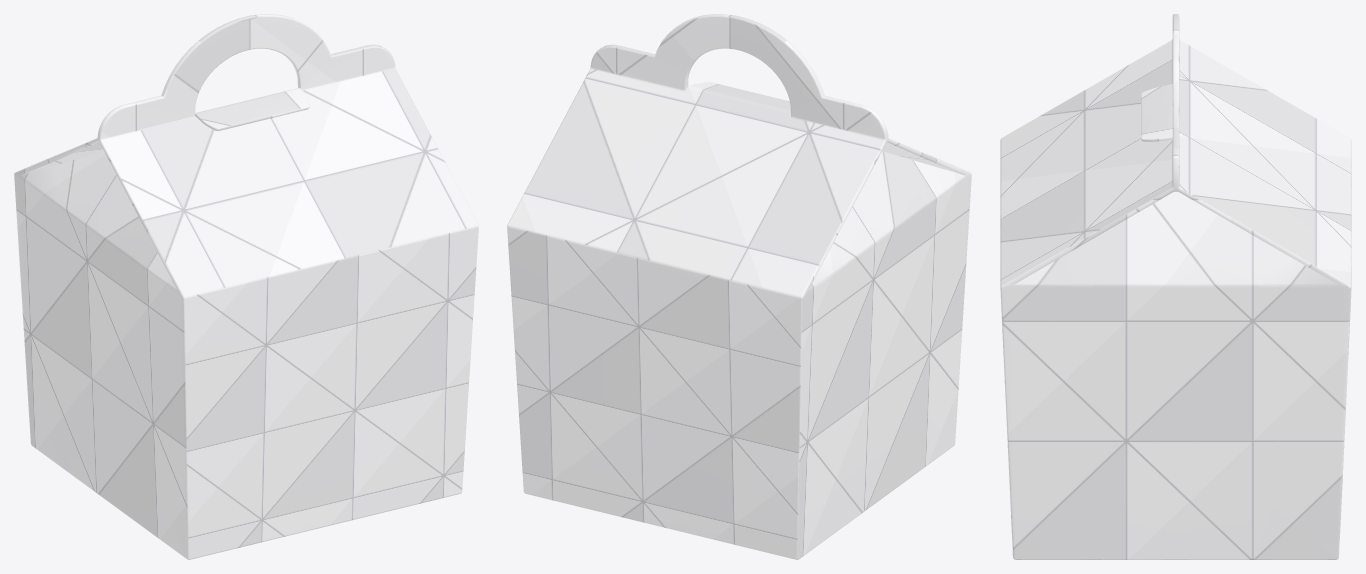
Rendered from rir_box_silver.glb.
The picture shows the model from 3 angles, left to right: view 1: azimuth 30°, elevation 25°; view 2: azimuth 150°, elevation 25°; view 3: azimuth 270°, elevation 25°; orthographic projection. The views are drawn at different scales.
Visible parts, largest first — view 1: rir_box; view 2: rir_box; view 3: rir_box.
Boxes of the visible parts, <box> form: rir_box: <box>14,14,478,559</box>; rir_box: <box>507,14,971,559</box>; rir_box: <box>1000,14,1351,559</box>.
Bounding box in the file's own units: 1.8 × 2.63 × 1.79.
Materials: 1 (1 with a texture image).
